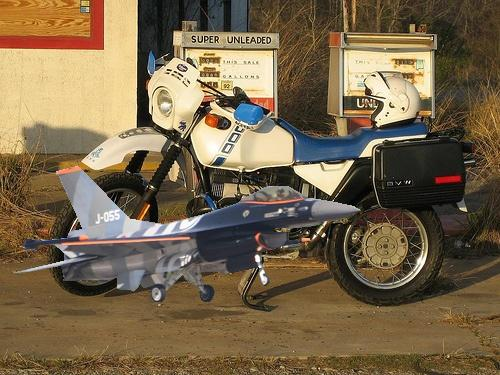tampered: (14, 167, 361, 302)
